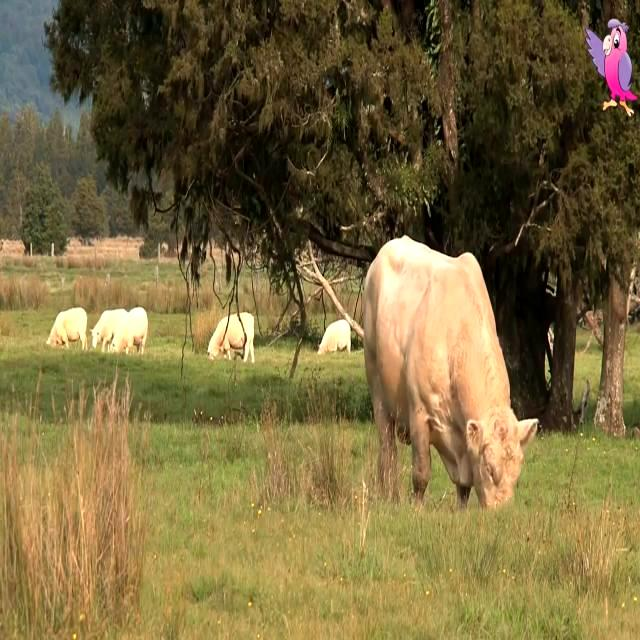COW: (364, 236, 538, 507)
